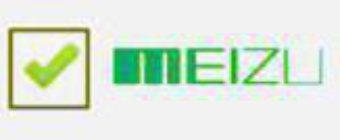CheckBox: (1, 1, 339, 139)
